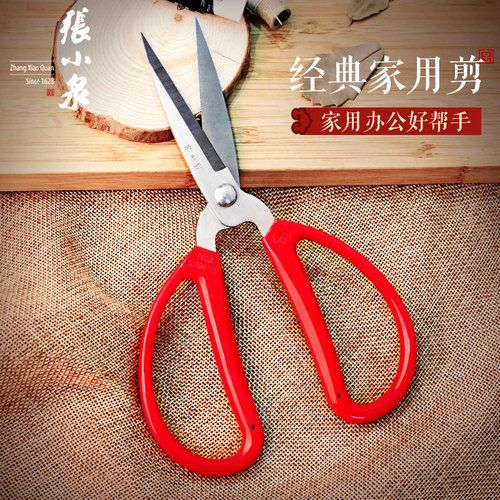scissor: (131, 17, 420, 477)
